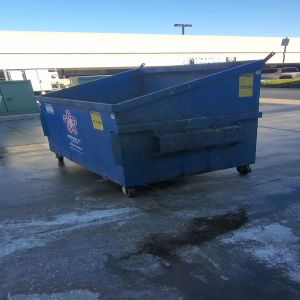Dumpster: (38, 62, 274, 198)
